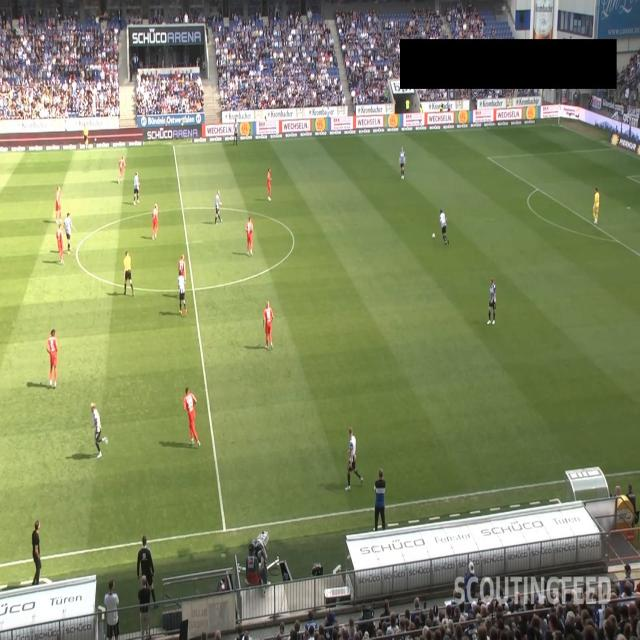ball: (432, 232, 436, 239)
